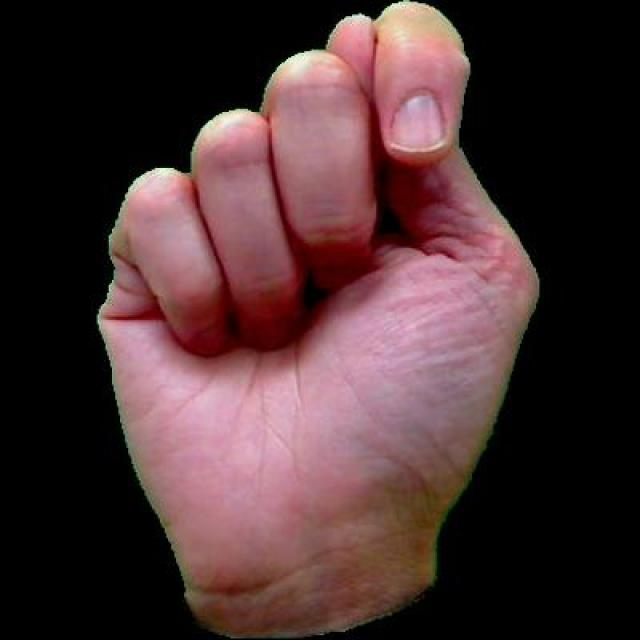t: (78, 0, 560, 637)
